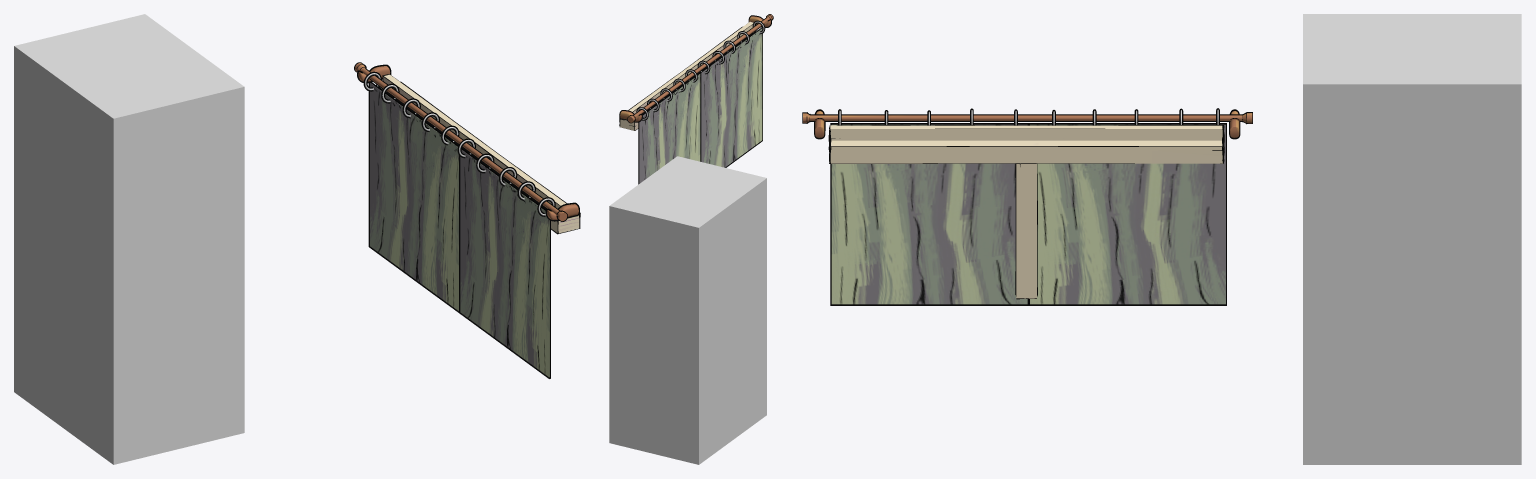
File: bettercurtain.fbx
3 renders of one model, left to right at view 1: azimuth 30°, elevation 25°; view 2: azimuth 150°, elevation 25°; view 3: azimuth 270°, elevation 25°, orthographic. The views are drawn at different scales.
Parts seen in each view (by area): view 1: ignore, Plane, Plane.001, windowcover1, windowborder4; view 2: ignore, Plane, Plane.001, windowcover1, windowborder4, windowborder3outline, windowborder4outline; view 3: ignore, Plane.001, Plane, windowborder3, windowborder4, windowcover1, windowcenter, windowborder3outline.
Part boxes in pixels (box(x1,y1,x2,y2)): ignore: box(14, 14, 244, 464); Plane: box(459, 148, 550, 378); Plane.001: box(368, 81, 458, 312); windowcover1: box(354, 62, 567, 221); windowborder4: box(383, 74, 566, 208); ignore: box(609, 156, 766, 464); Plane: box(700, 27, 762, 167); Plane.001: box(638, 72, 701, 184); windowcover1: box(627, 14, 773, 123); windowborder4: box(629, 21, 753, 113); windowborder3outline: box(619, 26, 754, 130); windowborder4outline: box(631, 22, 753, 111); ignore: box(1303, 14, 1521, 464); Plane.001: box(1028, 123, 1226, 305); Plane: box(830, 123, 1028, 305); windowborder3: box(830, 140, 1222, 163); windowborder4: box(830, 125, 1222, 140); windowcover1: box(802, 112, 1252, 123); windowcenter: box(1016, 164, 1036, 298); windowborder3outline: box(828, 135, 1224, 163).
Size of the model in its own units: 293 by 408 by 658.
Materials: 32 (7 with a texture image).
